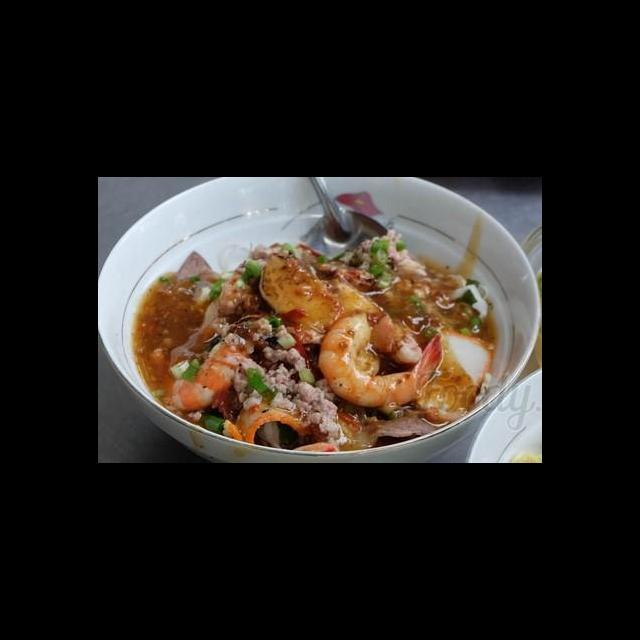gan: (169, 241, 235, 305)
thit bam: (229, 316, 347, 447), (334, 222, 420, 275)
thit heo: (410, 325, 500, 424), (226, 394, 317, 454)
tom: (313, 306, 449, 411), (162, 311, 254, 418)
